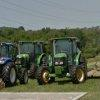Tractor: (38, 28, 90, 93)
